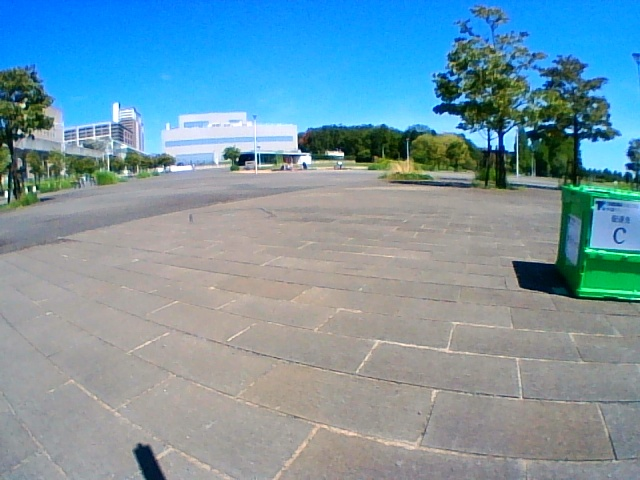green_box: (556, 184, 640, 299)
tag_c: (600, 206, 640, 248)
